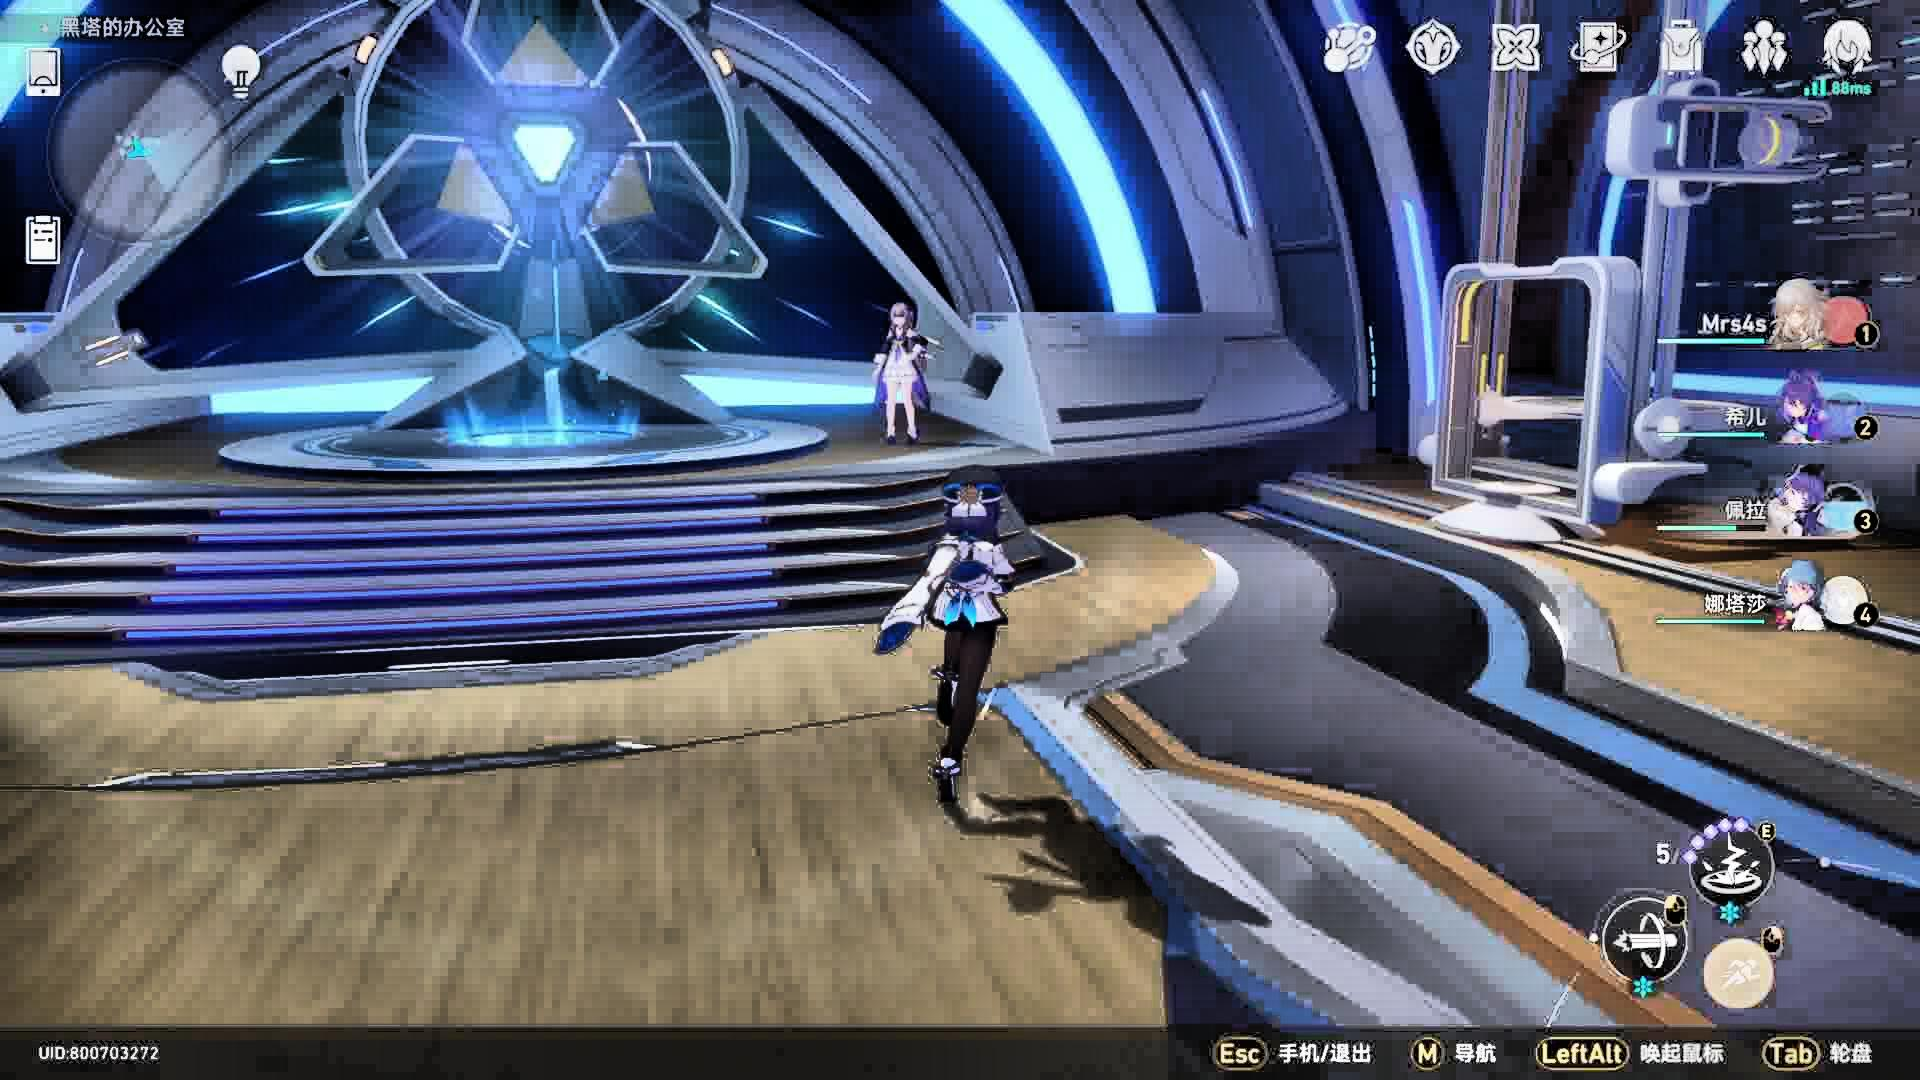Self: (877, 465, 1017, 811)
TeamMate: (866, 291, 935, 450)
